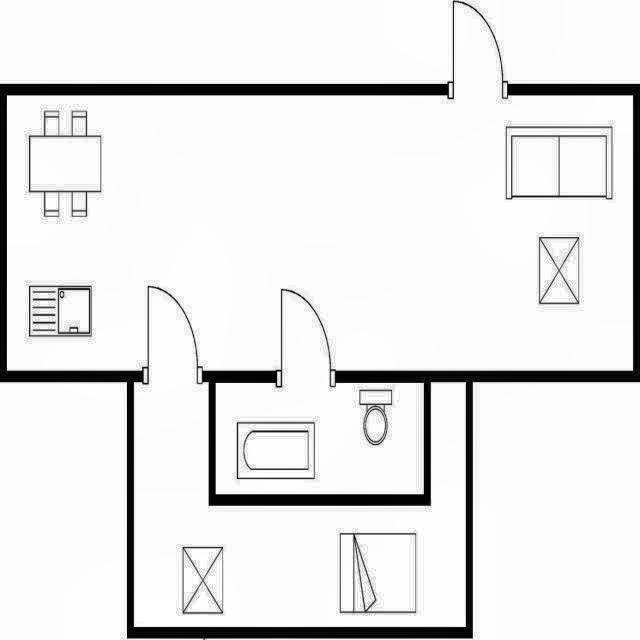room: (7, 96, 633, 371), (134, 382, 466, 626), (215, 382, 424, 495)
